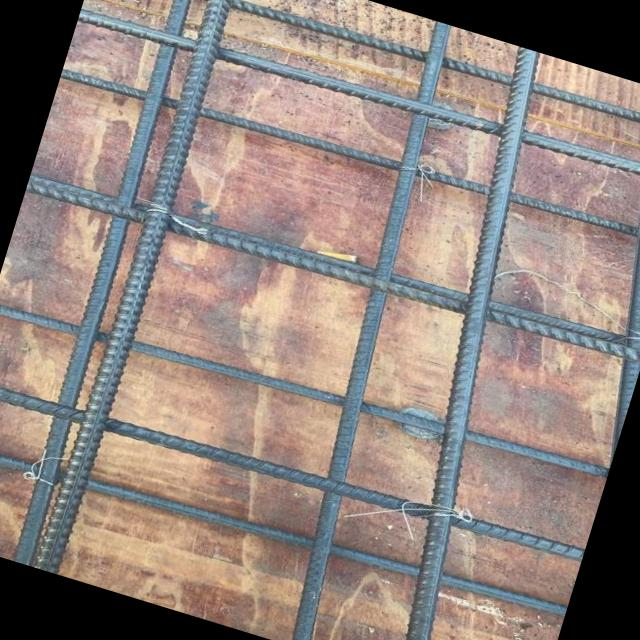ribbed bar: (326, 44, 611, 640), (243, 19, 495, 640), (0, 279, 609, 500), (24, 162, 640, 378), (27, 155, 640, 371), (0, 360, 584, 579), (0, 0, 225, 567), (59, 50, 640, 266), (0, 419, 566, 640), (31, 0, 245, 573), (77, 0, 640, 207), (92, 0, 640, 158), (545, 86, 640, 455)
